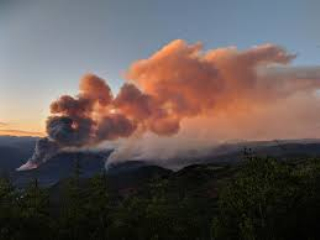smoke: (123, 43, 296, 139), (8, 70, 118, 171)
